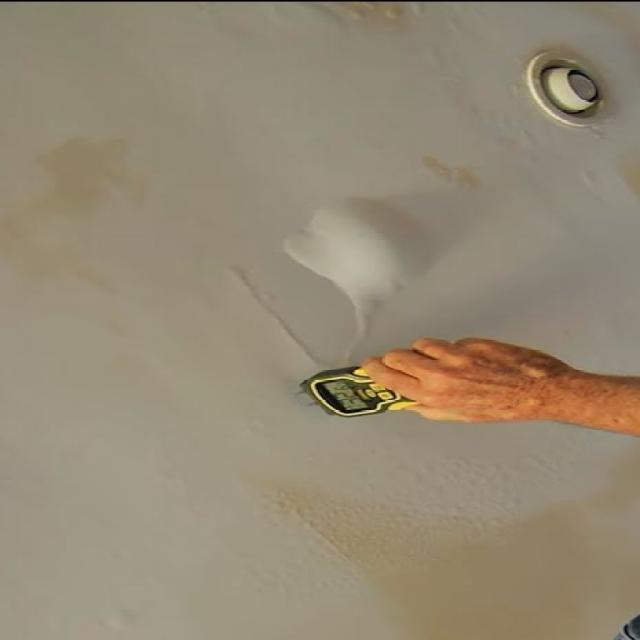leak: (277, 458, 640, 640), (230, 184, 433, 362)
